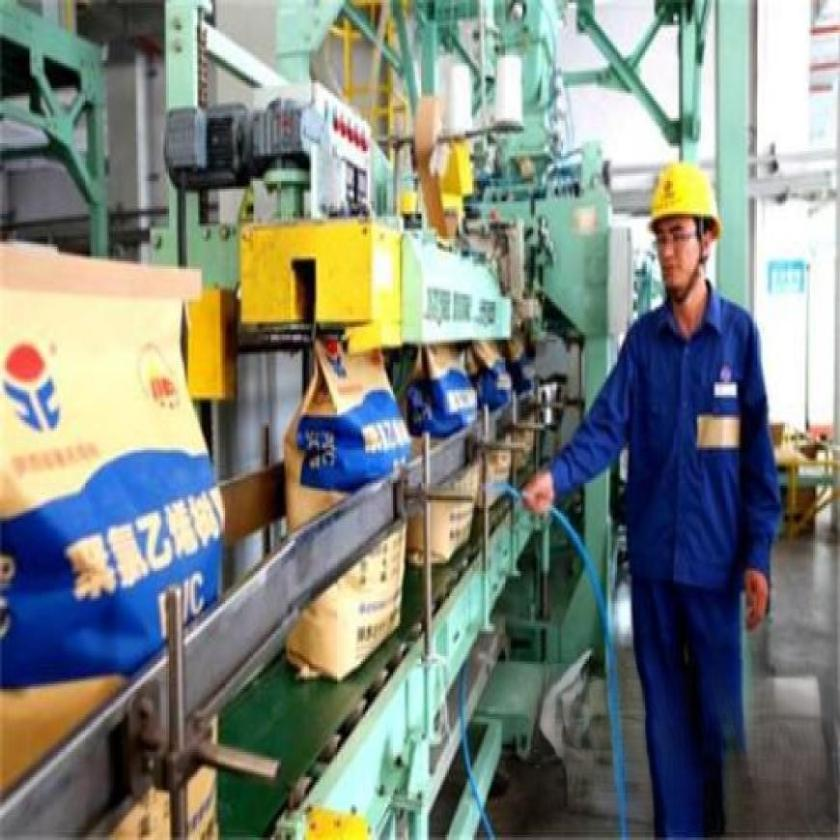Con_casco: (634, 154, 731, 302)
